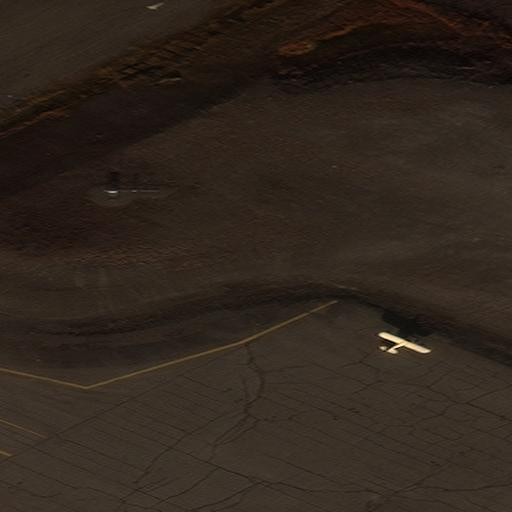Small Civil Transport: (381, 331, 431, 352)
